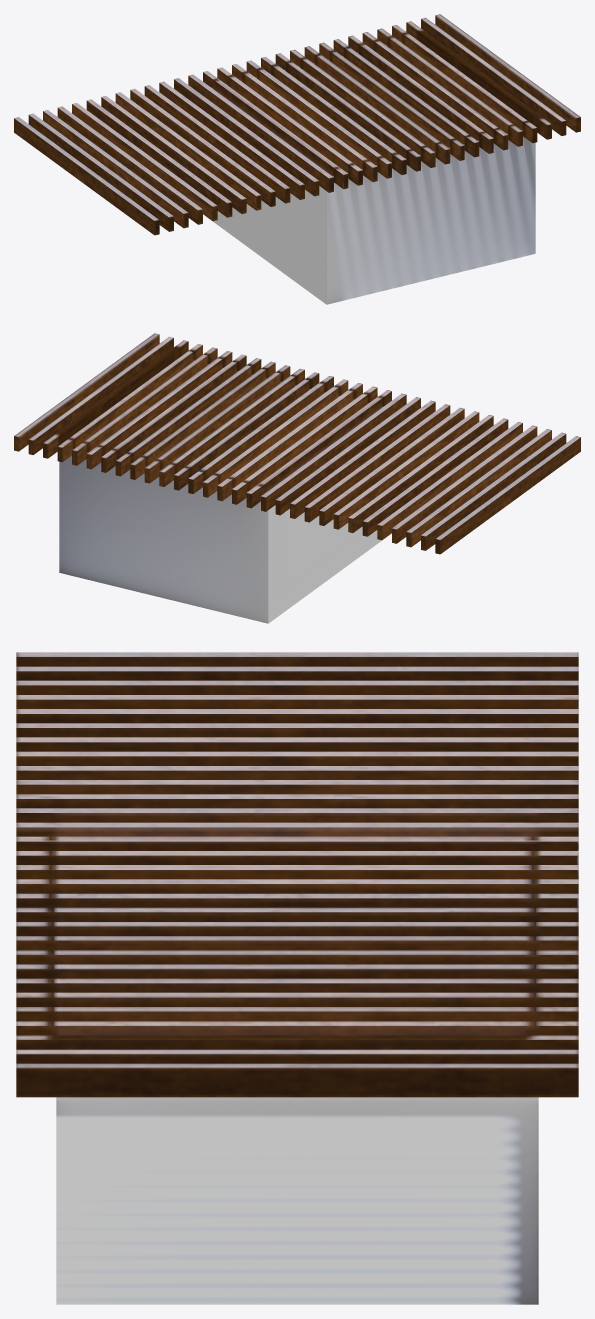
The model's file is boxE2.glb.
3 renders of one model, top to bottom at view 1: azimuth 30°, elevation 25°; view 2: azimuth 150°, elevation 25°; view 3: azimuth 270°, elevation 25°, orthographic. The views are drawn at different scales.
Visible parts, largest first — view 1: slatsv2, box, light; view 2: slatsv2, box, light; view 3: slatsv2, box, light.
Boxes of the visible parts, left/top/right/bottom form: slatsv2: left=14, top=14, right=580, bottom=235; box: left=212, top=41, right=535, bottom=304; light: left=206, top=186, right=326, bottom=304; slatsv2: left=14, top=333, right=580, bottom=554; box: left=59, top=360, right=382, bottom=623; light: left=268, top=505, right=388, bottom=623; slatsv2: left=16, top=652, right=578, bottom=1097; box: left=56, top=1100, right=538, bottom=1304; light: left=56, top=1097, right=538, bottom=1100.
Size of the model in its own units: 4.08 by 1.24 by 2.33.
3 materials, 3 textured.
